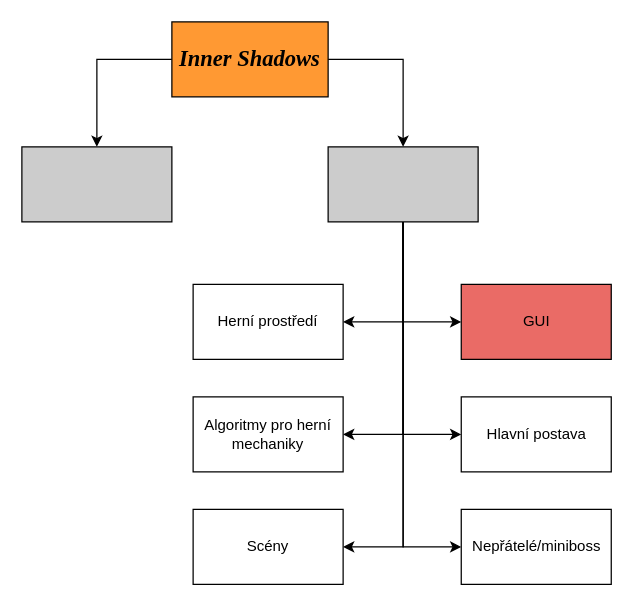
Image size: 634x606. Some labels were removed from this diagram. Here are the shapes that lost their labels. From the top down, the box of each, then its label:
(21, 146, 172, 222): Unity prostředí
(327, 146, 478, 222): Implementace
